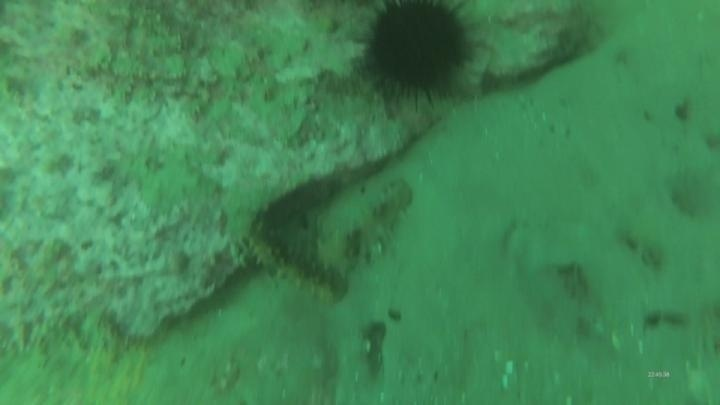echinus: (358, 2, 476, 106)
holothurian: (314, 178, 416, 277), (241, 228, 348, 304)
